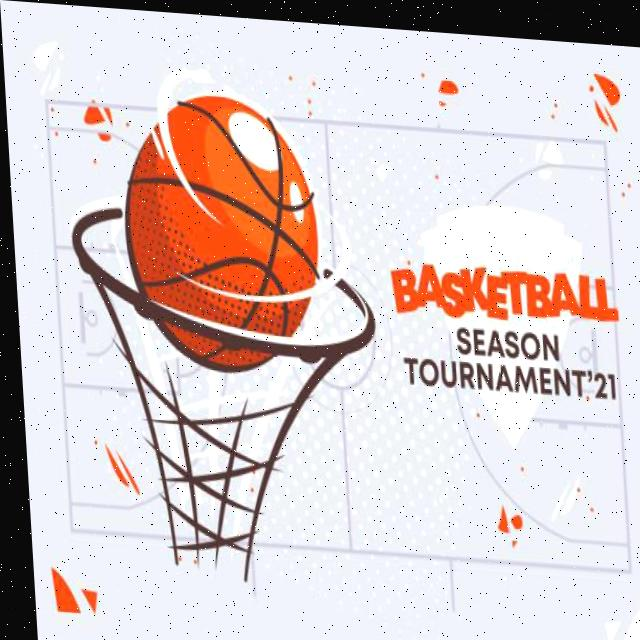basketball: (118, 90, 327, 379)
hoop: (71, 204, 391, 593)
